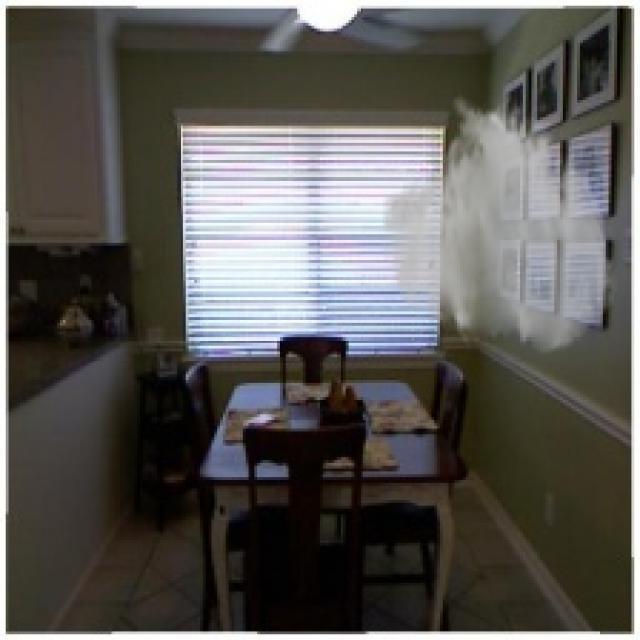Smoke: (377, 91, 617, 358)
